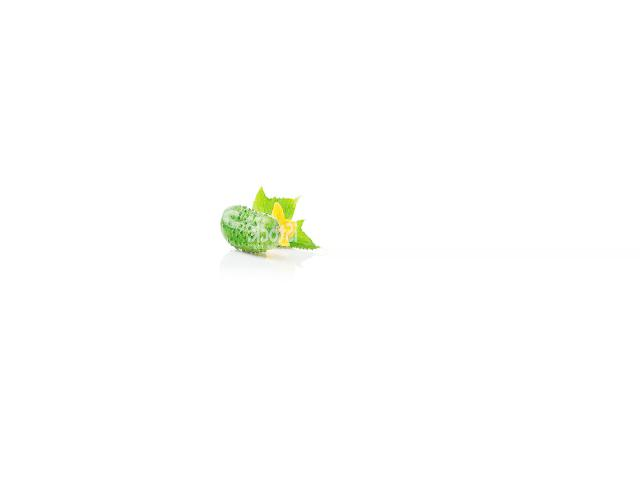cucumber: (219, 205, 279, 253)
